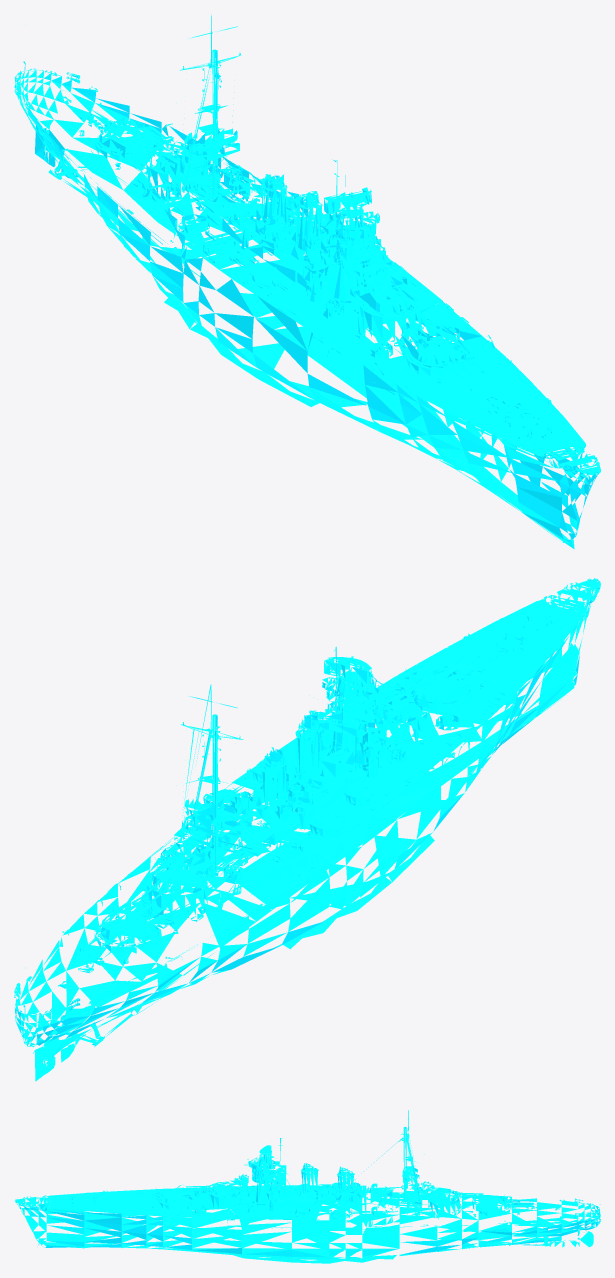
The model's file is Novorossiysk.glb.
3 views of the same model, one above another, from view 1: azimuth 30°, elevation 25°; view 2: azimuth 150°, elevation 25°; view 3: azimuth 270°, elevation 25° (orthographic). The views are drawn at different scales.
Bounding box in the file's own units: 1.87 × 3.24 × 12.44.
